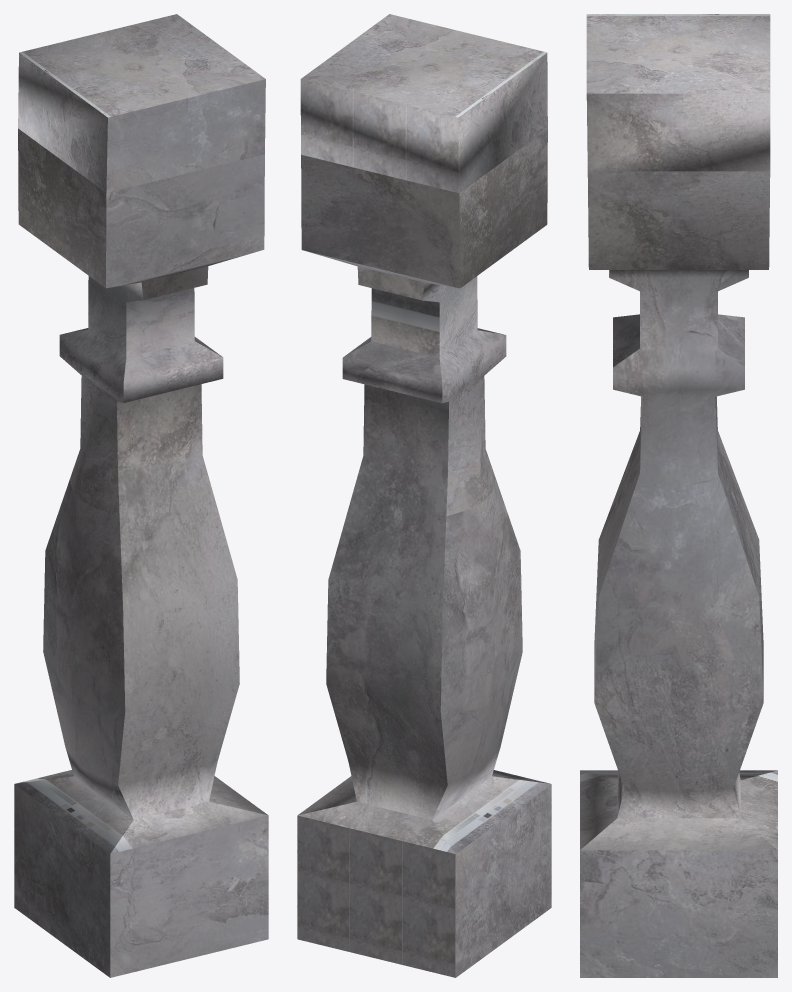
File: ban1.fbx
3 views of the same model, side by side, from view 1: azimuth 30°, elevation 25°; view 2: azimuth 150°, elevation 25°; view 3: azimuth 270°, elevation 25° (orthographic). The views are drawn at different scales.
Parts seen in each view (by area): view 1: polySurface31; view 2: polySurface31; view 3: polySurface31.
Part boxes in pixels (bbox=[...]): polySurface31: bbox=[14, 14, 268, 977]; polySurface31: bbox=[297, 14, 551, 977]; polySurface31: bbox=[580, 14, 777, 977].
Size of the model in its own units: 0.3894 by 2.01 by 0.407.
Materials: 1 (1 with a texture image).
